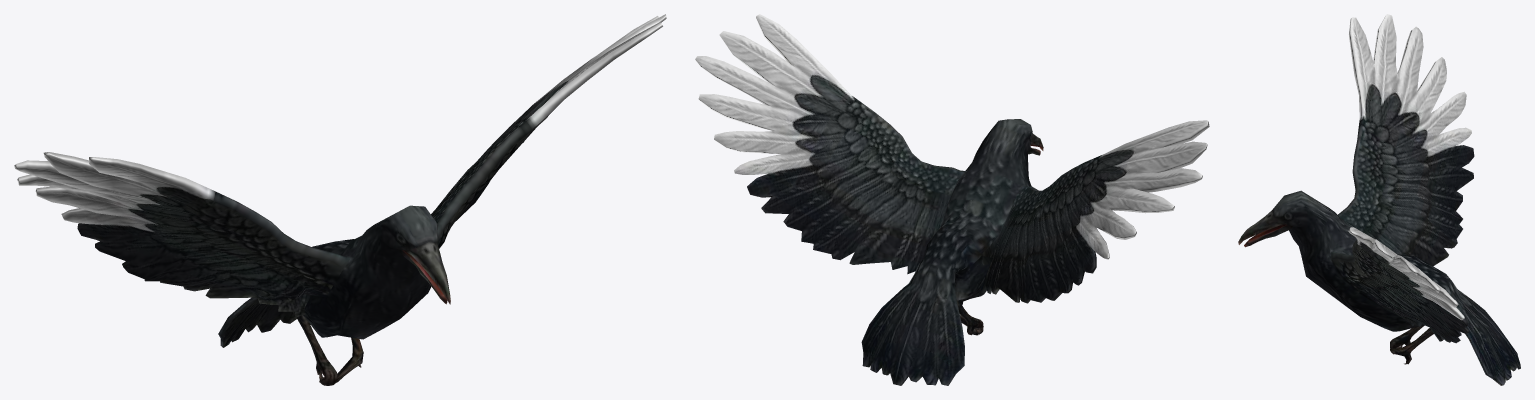
The model's file is 78-raven.glb.
3 renders of one model, left to right at view 1: azimuth 30°, elevation 25°; view 2: azimuth 150°, elevation 25°; view 3: azimuth 270°, elevation 25°, orthographic. The views are drawn at different scales.
Size of the model in its own units: 2.99 by 1.44 by 1.5.
Materials: 1 (1 with a texture image).
